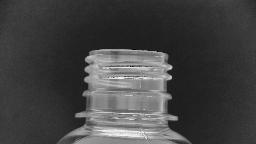No Cap: (71, 46, 179, 124)
